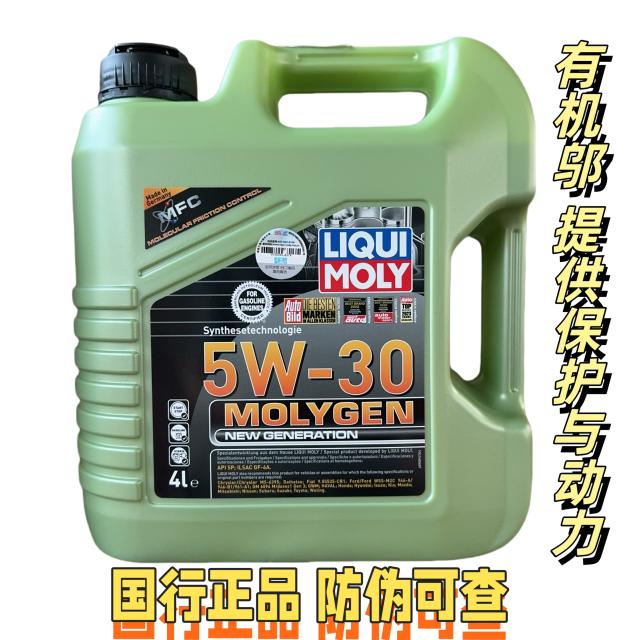motor_oil: (64, 26, 542, 559)
